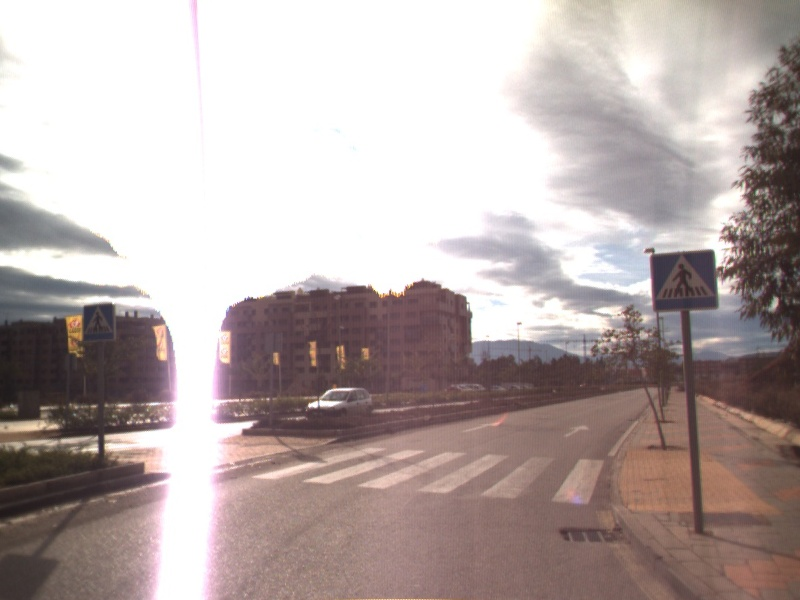STRAIGHT: (460, 420, 503, 434), (562, 423, 591, 439)
